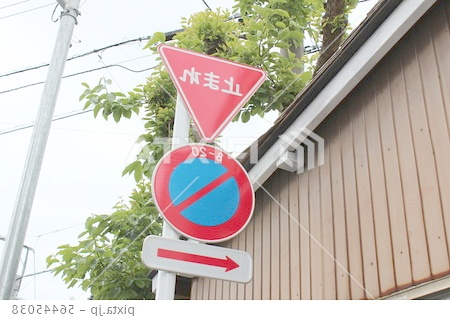Prohibition_sign: (141, 130, 263, 257)
